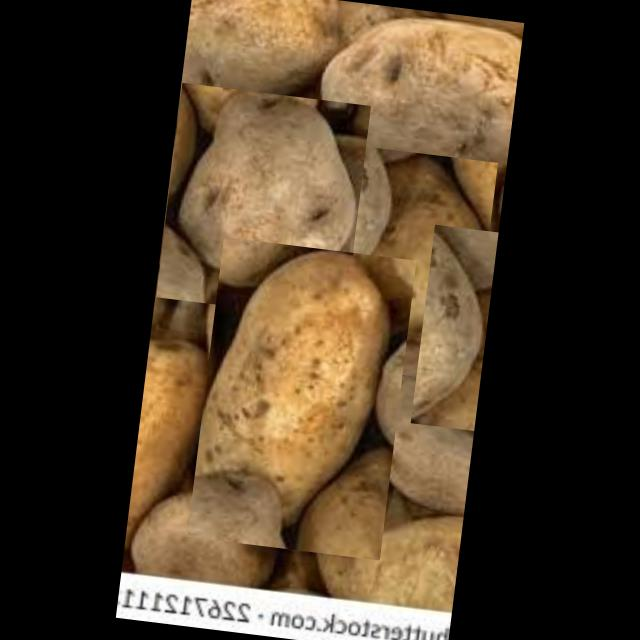Damaged potato: (187, 237, 416, 560), (156, 82, 370, 320), (300, 0, 525, 203), (320, 144, 498, 383), (121, 458, 297, 592), (410, 224, 498, 430), (330, 494, 464, 608)
